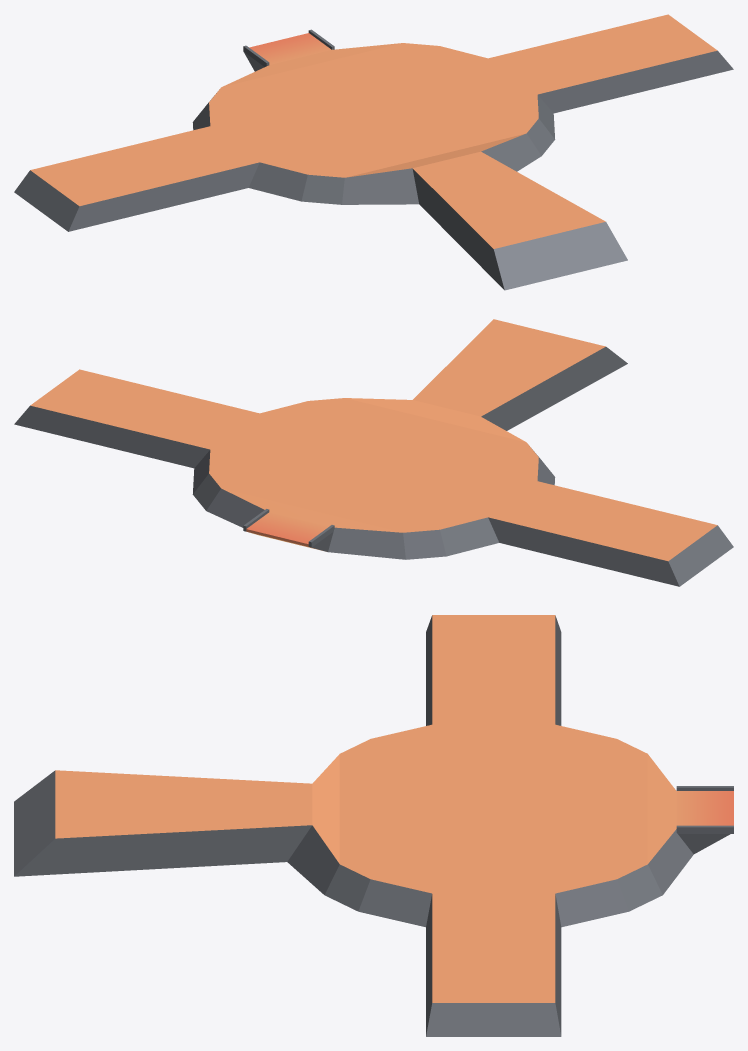
File: levelend3.fbx
3 views of the same model, one above another, from view 1: azimuth 30°, elevation 25°; view 2: azimuth 150°, elevation 25°; view 3: azimuth 270°, elevation 25° (orthographic). The views are drawn at different scales.
Visible parts, largest first — view 1: road.003; view 2: road.003; view 3: road.003.
Part boxes in pixels (x1,y1,x2,y2): road.003: (14,14,733,290); road.003: (14,319,733,586); road.003: (14,615,733,1036).
Size of the model in its own units: 6267 by 251 by 4712.
